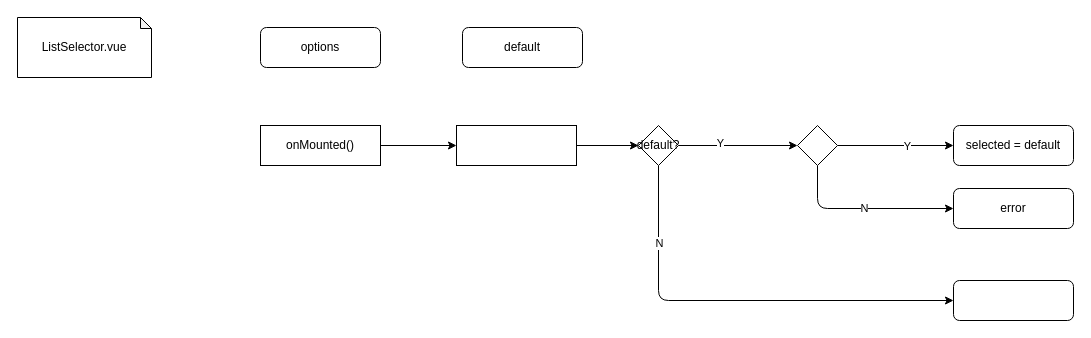
Image size: 1091x338. Some labels were removed from this diagram. The shapes that lost their labels are listed below. From the top down, each one's box as (x1, y1, x2, y2) in pixels, then its label:
(456, 124, 576, 166): init()
(796, 124, 838, 166): options.invludes(default?)
(952, 280, 1074, 320): selected = options[0]
